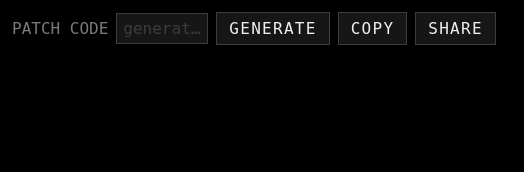
it: pasting › looks up a short code, and then shows it as ready
Type "K7M2QX" into the field named "Patch code". click: (162, 28)
box: [116, 13, 208, 44]
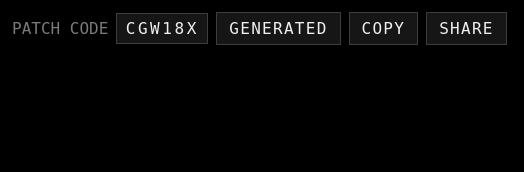
Expected: the button "GENERATED" is shown, [216, 12, 340, 45]
